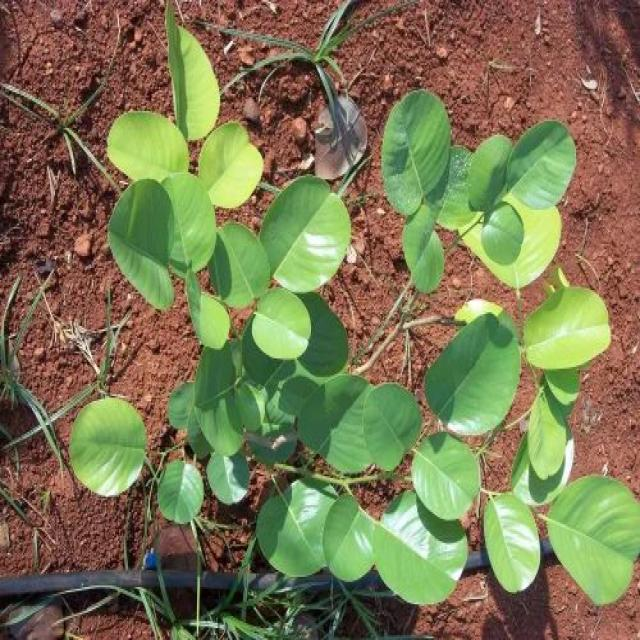Medicinal-Sandalwood: (38, 9, 640, 604)
